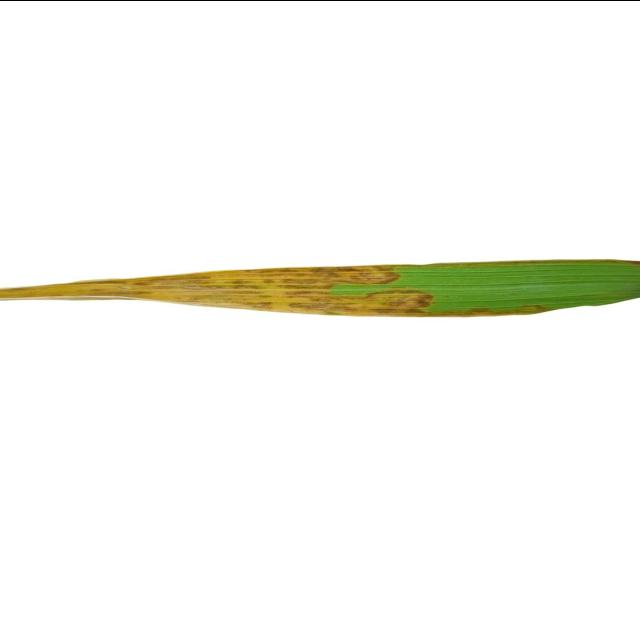Leaf scald: (0, 176, 640, 502)
